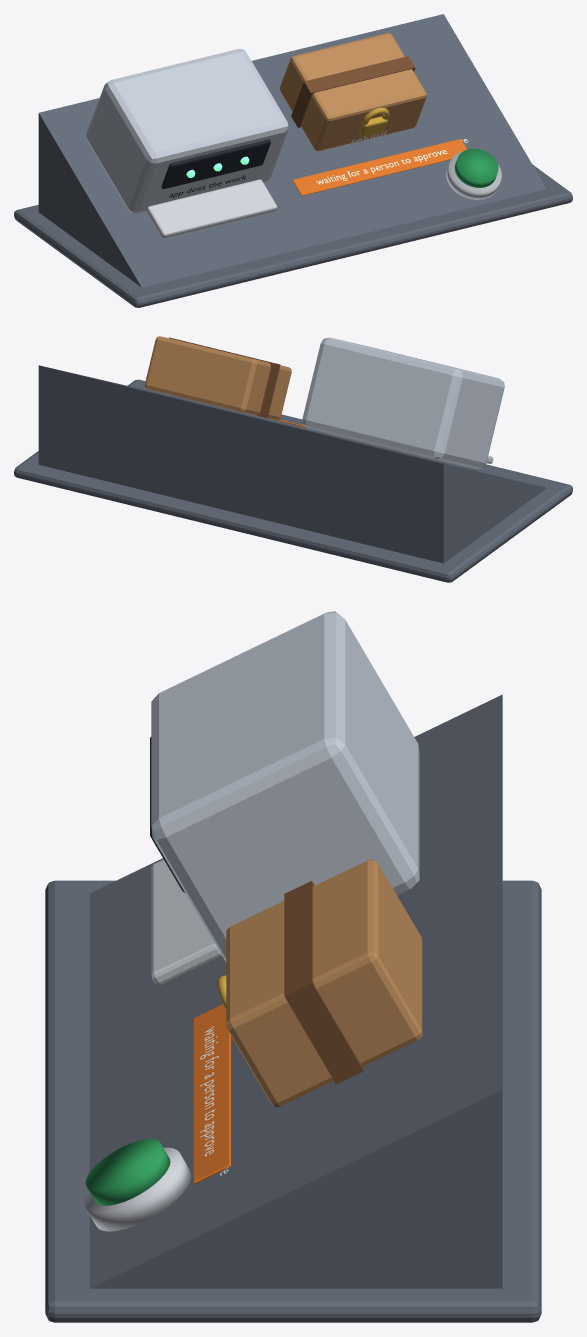
File: execute.glb
3 views of the same model, one above another, from view 1: azimuth 30°, elevation 25°; view 2: azimuth 150°, elevation 25°; view 3: azimuth 270°, elevation 25° (orthographic). The views are drawn at different scales.
Visible parts, largest first — view 1: slope, body, stand, c, tray, wait_p, panel, band, cap, base, lock, wait_t; view 2: slope, body, stand, c, band; view 3: slope, body, stand, c, band, wait_p, tray, cap, base.
Boxes of the visible parts, <box> form: slope: <box>38,14,546,287</box>; body: <box>86,49,288,214</box>; stand: <box>14,164,572,307</box>; c: <box>279,33,426,151</box>; tray: <box>146,179,277,238</box>; wait_p: <box>292,139,467,195</box>; panel: <box>161,139,270,189</box>; band: <box>291,56,415,127</box>; cap: <box>454,148,498,187</box>; base: <box>446,151,501,199</box>; lock: <box>358,107,389,136</box>; wait_t: <box>316,150,447,184</box>; slope: <box>38,365,546,563</box>; body: <box>302,337,504,469</box>; stand: <box>14,379,572,582</box>; c: <box>144,336,291,420</box>; band: <box>169,337,280,418</box>; slope: <box>89,694,502,1288</box>; body: <box>151,611,419,962</box>; stand: <box>45,880,541,1322</box>; c: <box>226,859,422,1107</box>; band: <box>284,881,363,1084</box>; wait_p: <box>193,1004,230,1184</box>; tray: <box>151,859,221,985</box>; cap: <box>85,1139,170,1205</box>; base: <box>84,1147,191,1231</box>.
Bounding box in the file's own units: 1.3 × 0.4697 × 0.6365.
